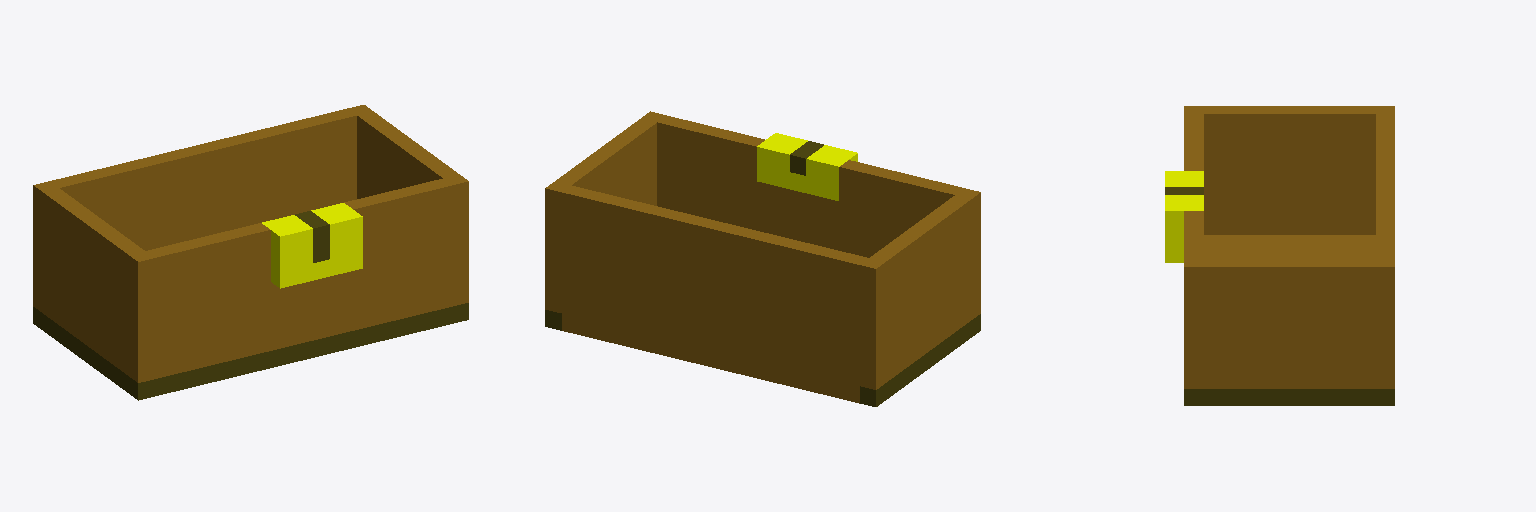
3 views of the same model, side by side, from view 1: azimuth 30°, elevation 25°; view 2: azimuth 150°, elevation 25°; view 3: azimuth 270°, elevation 25° (orthographic).
Parts seen in each view (by area): view 1: object 1; view 2: object 1; view 3: object 1.
Part boxes in pixels (left/top/right/bottom): object 1: left=33, top=105, right=468, bottom=400; object 1: left=545, top=111, right=980, bottom=406; object 1: left=1165, top=106, right=1394, bottom=405.
Size of the model in its own units: 2 by 0.8 by 1.2.
1 materials, 1 textured.